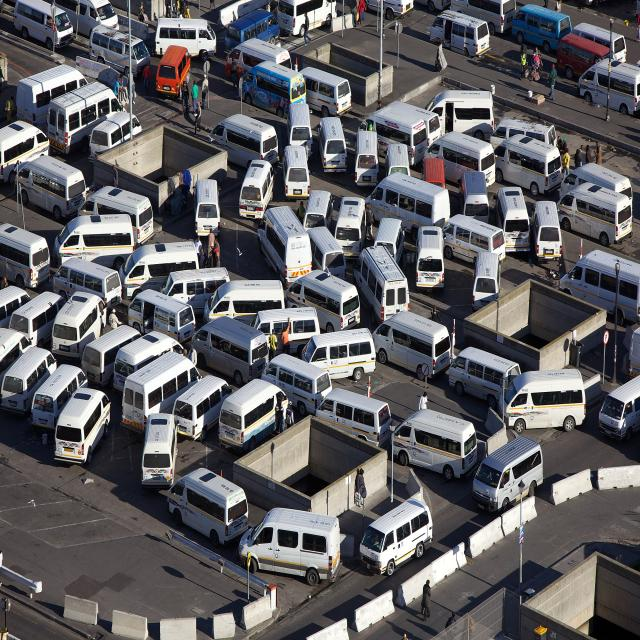MiniBus taxi: (238, 505, 351, 585), (387, 404, 480, 478), (370, 304, 453, 386), (468, 434, 550, 514), (170, 466, 252, 546), (358, 498, 436, 579), (499, 364, 591, 431), (447, 338, 525, 414), (218, 380, 292, 454), (51, 386, 113, 474), (557, 184, 635, 248), (28, 364, 92, 438), (1, 344, 58, 420), (13, 158, 85, 218), (575, 56, 638, 118), (171, 376, 235, 436), (1, 214, 51, 290), (138, 412, 182, 494), (10, 0, 74, 56), (427, 8, 491, 59), (412, 224, 450, 297), (599, 373, 640, 439), (530, 195, 569, 264), (317, 110, 352, 178), (279, 142, 313, 201), (191, 179, 222, 235)
